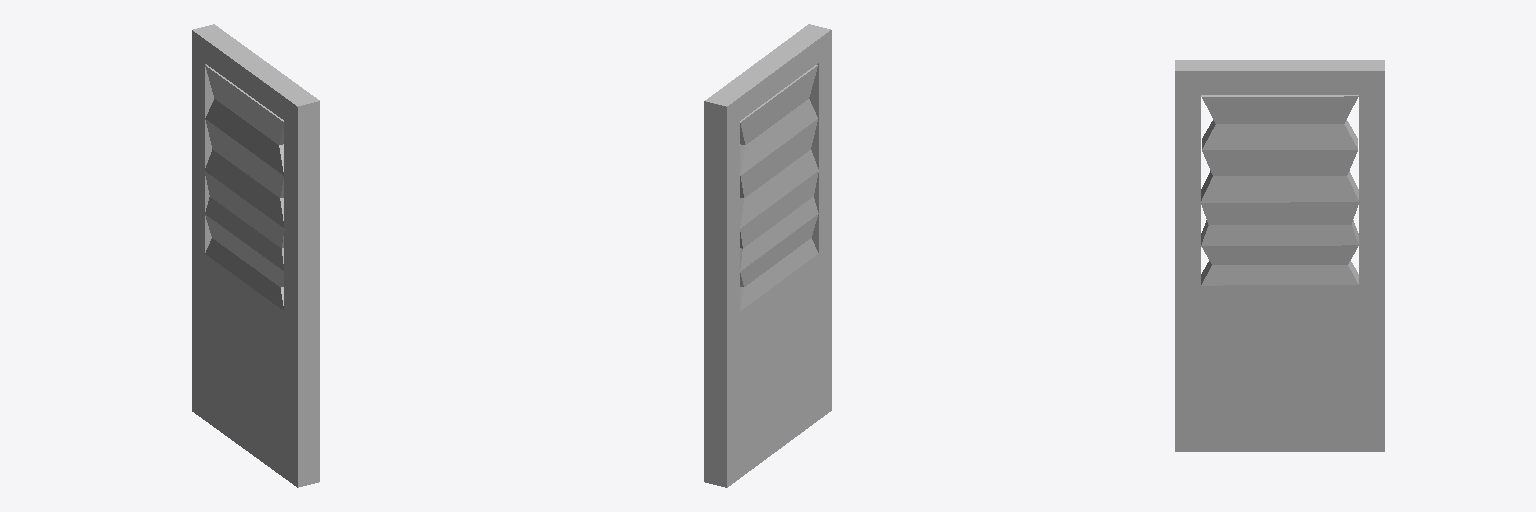
File: porta_20.obj
3 views of the same model, side by side, from view 1: azimuth 30°, elevation 25°; view 2: azimuth 150°, elevation 25°; view 3: azimuth 270°, elevation 25° (orthographic).
Parts seen in each view (by area): view 1: Cylinder_Cylinder_door; view 2: Cylinder_Cylinder_door; view 3: Cylinder_Cylinder_door.
Part boxes in pixels (left/top/right/bottom): Cylinder_Cylinder_door: left=192, top=24, right=319, bottom=487; Cylinder_Cylinder_door: left=704, top=24, right=831, bottom=487; Cylinder_Cylinder_door: left=1175, top=60, right=1384, bottom=451.
Size of the model in its own units: 0.129 by 2 by 1.